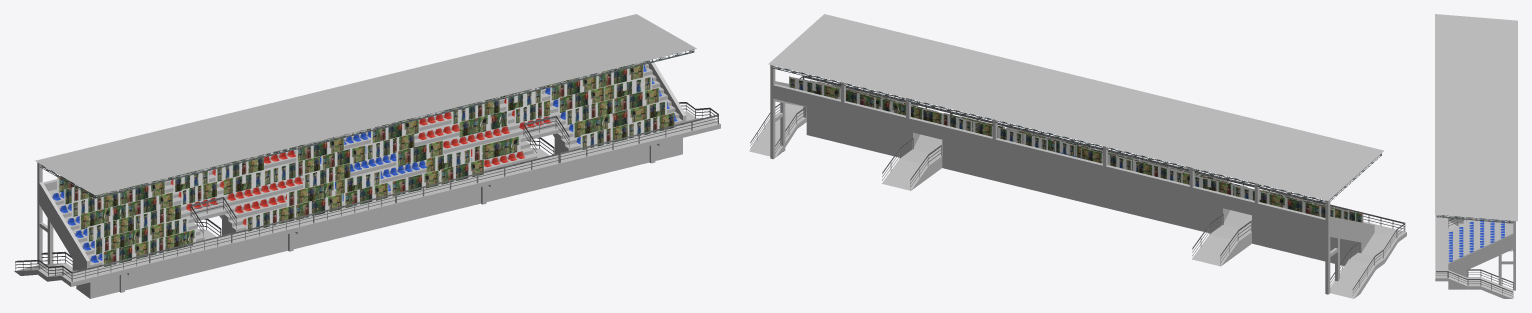
Rendered from Stand-01.fbx.
3 views of the same model, side by side, from view 1: azimuth 30°, elevation 25°; view 2: azimuth 150°, elevation 25°; view 3: azimuth 270°, elevation 25° (orthographic). The views are drawn at different scales.
Visible parts, largest first — view 1: Stand-01, Audience; view 2: Stand-01, Audience; view 3: Stand-01.
Part boxes in pixels (x1,y1,x2,y2): Stand-01: (14,14,720,298); Audience: (57,63,674,267); Stand-01: (749,14,1406,298); Audience: (789,76,1363,222); Stand-01: (1435,14,1517,298).
Size of the model in its own units: 7893 by 1295 by 1275.
